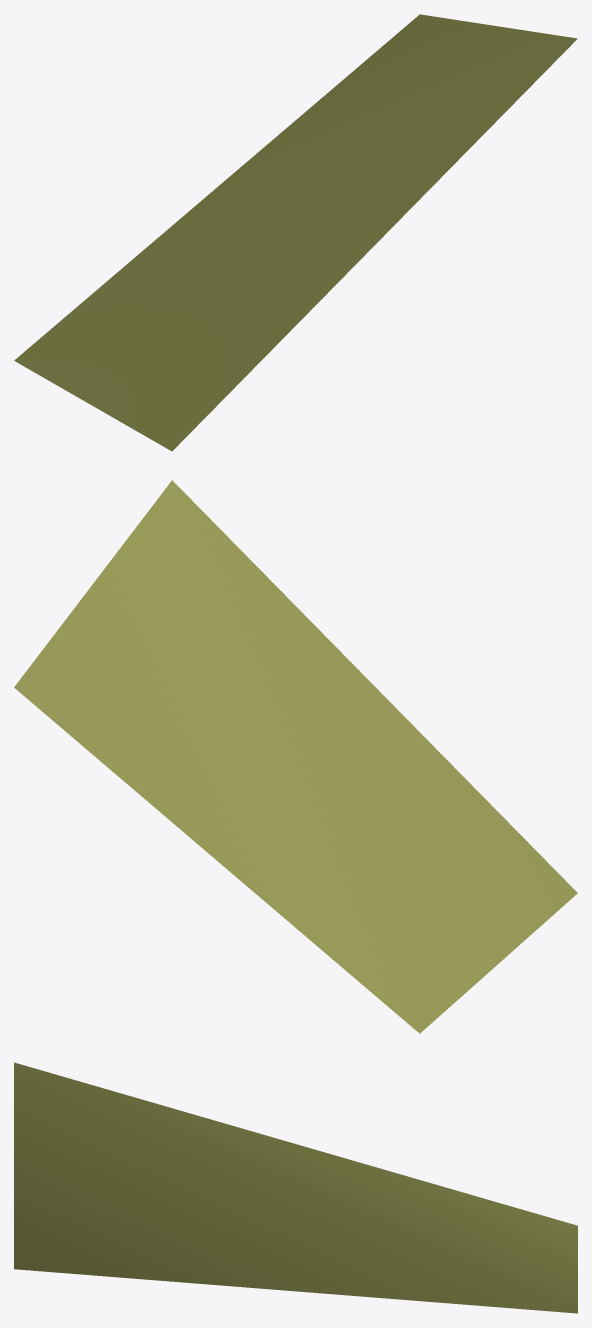
Rendered from Field_6.glb.
3 views of the same model, one above another, from view 1: azimuth 30°, elevation 25°; view 2: azimuth 150°, elevation 25°; view 3: azimuth 270°, elevation 25° (orthographic). The views are drawn at different scales.
Visible parts, largest first — view 1: Field_6; view 2: Field_6; view 3: Field_6.
Part boxes in pixels (box(x1,y1,x2,y2)): Field_6: box(14, 14, 577, 451); Field_6: box(14, 480, 577, 1033); Field_6: box(14, 1062, 577, 1313).
Size of the model in its own units: 40 by 31.92 by 27.
